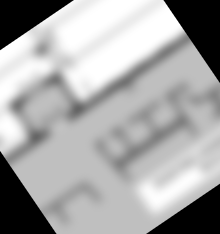double door: (15, 69, 49, 100), (39, 104, 71, 134)
wall: (64, 33, 190, 122), (5, 126, 54, 163), (5, 93, 28, 113), (40, 70, 62, 89)
